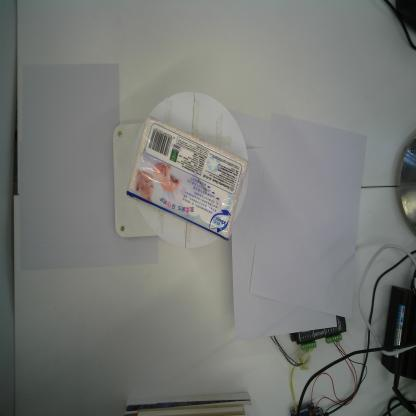Tissue: (125, 113, 251, 245)
